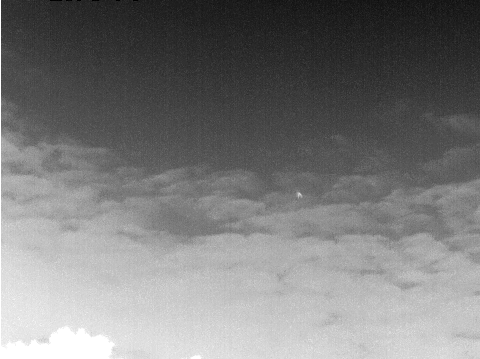dim target: (296, 190, 304, 199)
